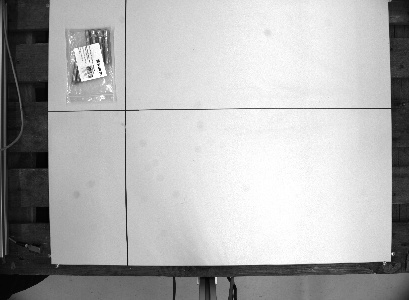t2: (61, 24, 121, 108)
